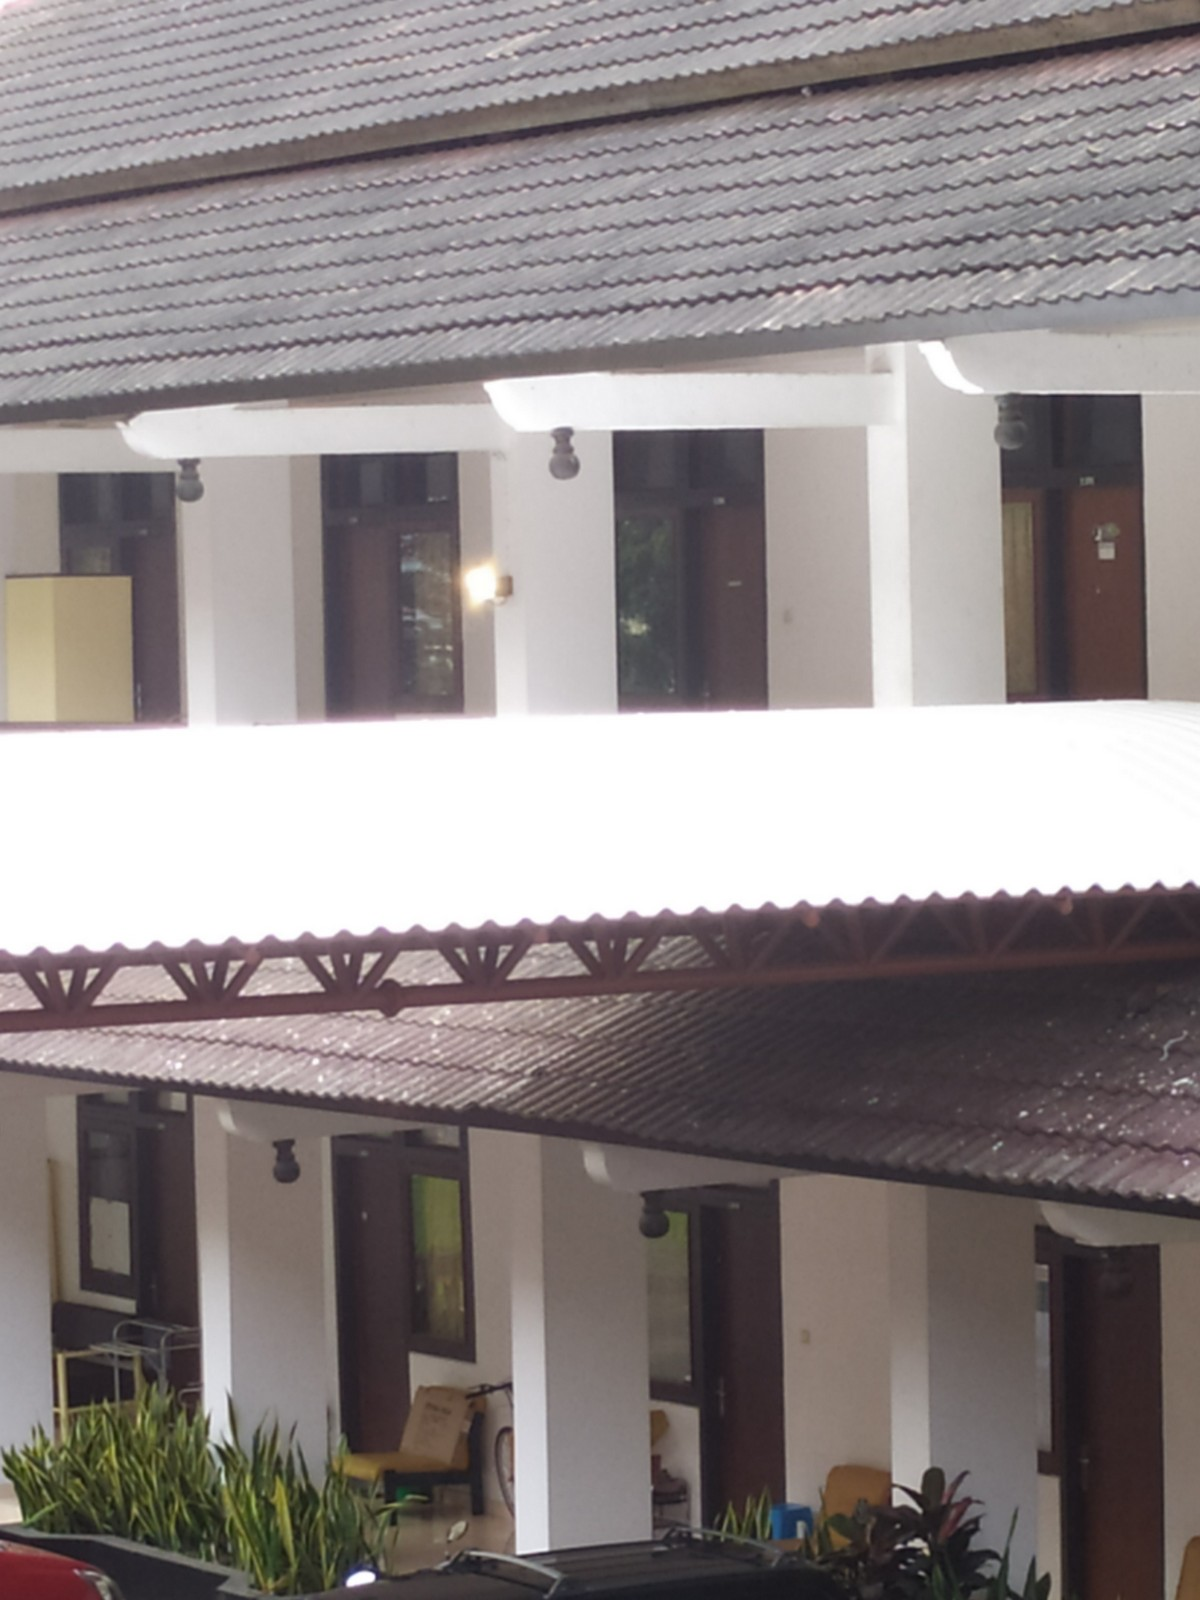concrete column: (500, 1134, 666, 1548), (880, 1179, 1046, 1579), (187, 1094, 344, 1477), (855, 362, 1017, 712), (482, 438, 630, 731), (173, 459, 311, 738)
